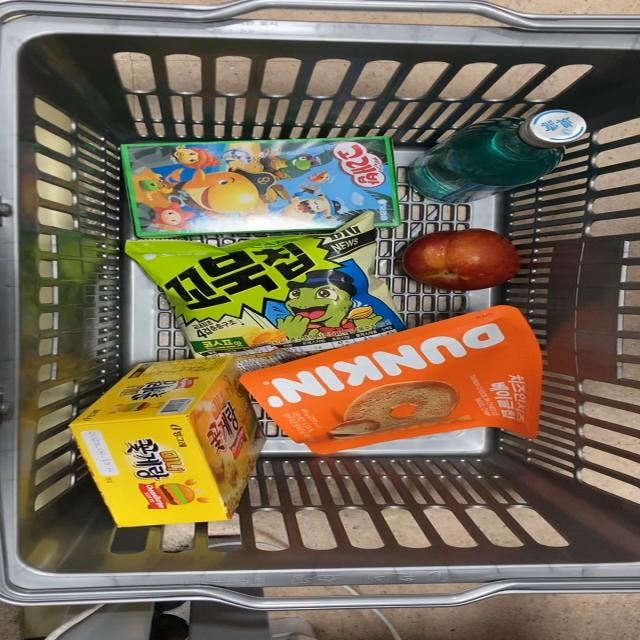cheesebagel: (234, 304, 559, 462)
ggobukchip: (122, 212, 433, 398)
goraebob: (113, 136, 401, 240)
jinro: (403, 93, 615, 215)
minicrab: (63, 356, 270, 540)
plum: (394, 218, 550, 292)
